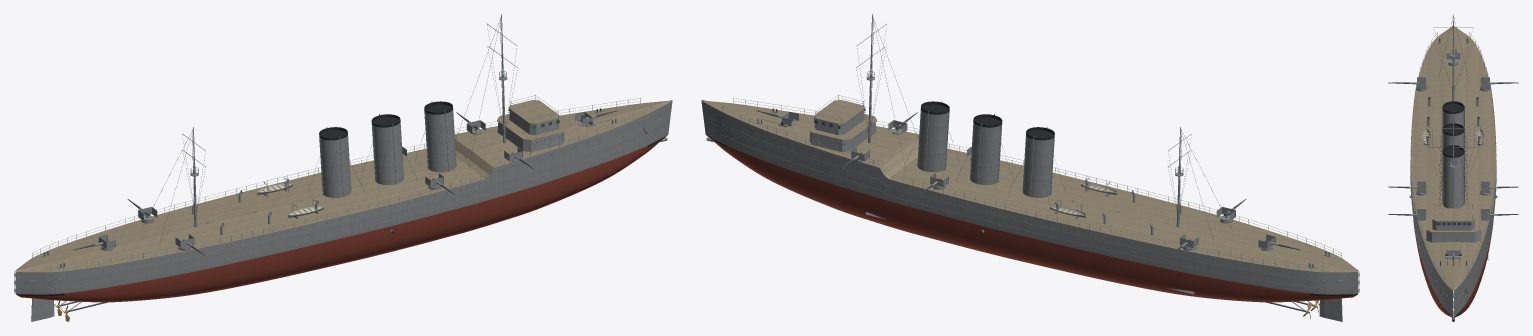
The model's file is aurora_1903.glb.
3 views of the same model, side by side, from view 1: azimuth 30°, elevation 25°; view 2: azimuth 150°, elevation 25°; view 3: azimuth 270°, elevation 25° (orthographic). The views are drawn at different scales.
Parts seen in each view (by area): view 1: Pallada class (Aurora); view 2: Pallada class (Aurora); view 3: Pallada class (Aurora).
Part boxes in pixels (x1,y1,x2,y2): Pallada class (Aurora): (14,14,672,321); Pallada class (Aurora): (701,14,1359,321); Pallada class (Aurora): (1388,14,1518,321).
Size of the model in its own units: 127 by 36.1 by 25.54.
Materials: 8 (2 with a texture image).
